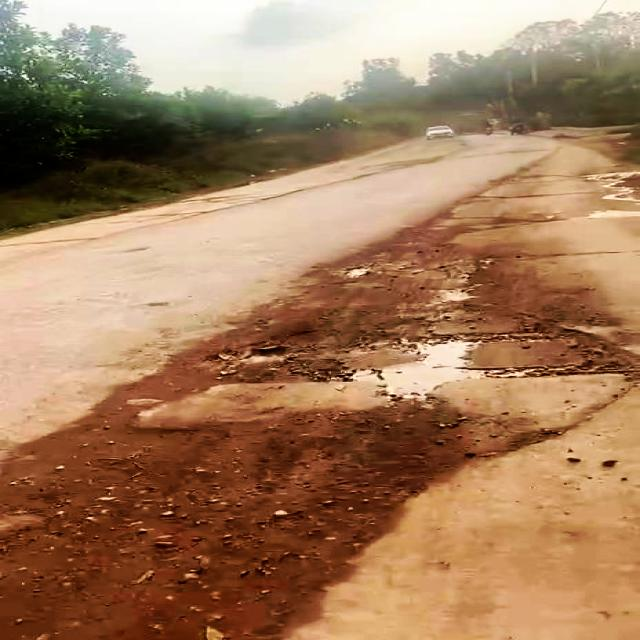pothole: (338, 318, 640, 410)
